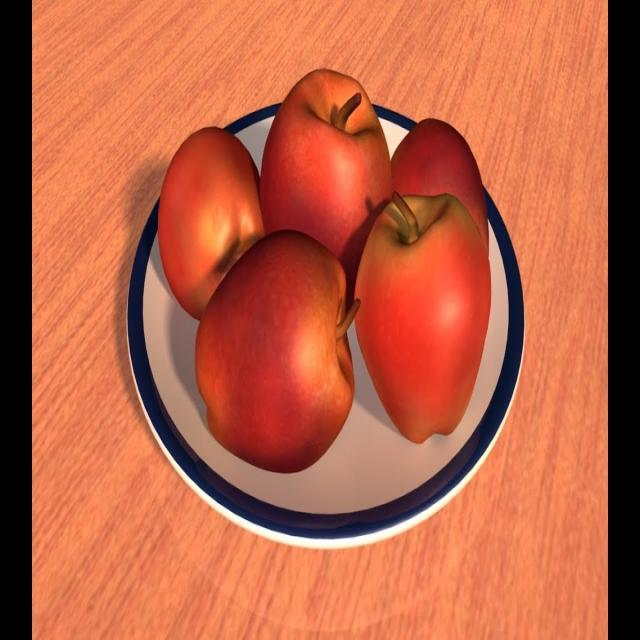APPLE: (199, 231, 353, 471), (356, 195, 490, 441), (263, 66, 392, 256), (159, 110, 262, 283), (393, 121, 487, 217)
